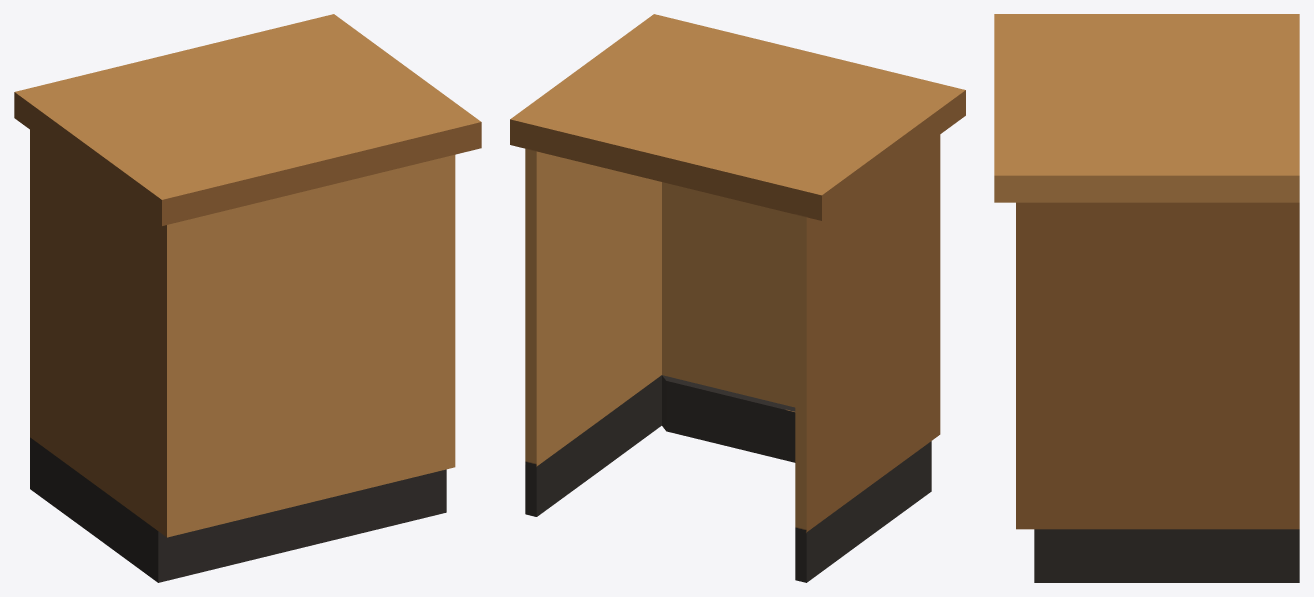
Rendered from table_bar.fbx.
3 views of the same model, side by side, from view 1: azimuth 30°, elevation 25°; view 2: azimuth 150°, elevation 25°; view 3: azimuth 270°, elevation 25° (orthographic). The views are drawn at different scales.
Visible parts, largest first — view 1: mesh_TableBar; view 2: mesh_TableBar; view 3: mesh_TableBar.
Boxes of the visible parts, x1,y1,x2,y2 form: mesh_TableBar: [14, 14, 481, 582]; mesh_TableBar: [510, 14, 965, 582]; mesh_TableBar: [994, 14, 1299, 582].
Bounding box in the file's own units: 1 × 1.2 × 0.7997.
Materials: 1 (1 with a texture image).
